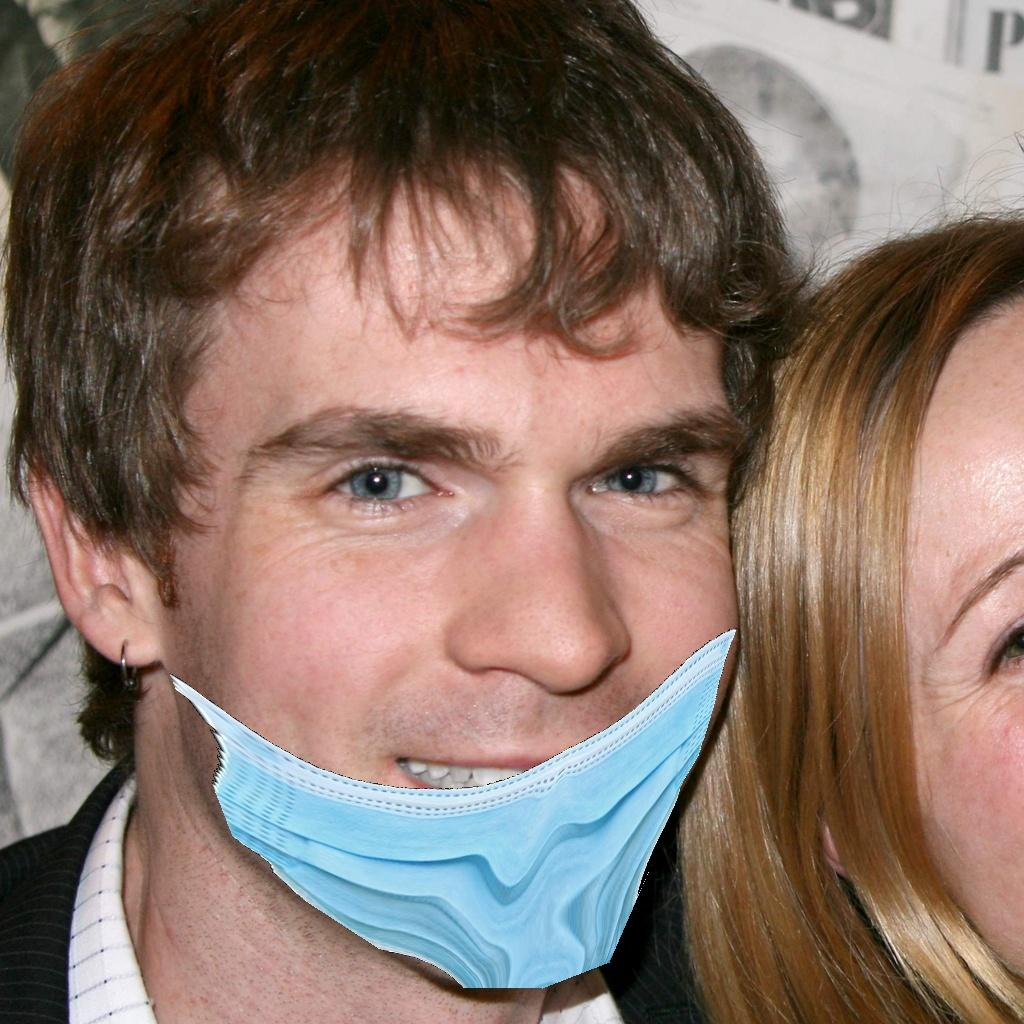Máscara Incorreta: (188, 305, 740, 963)
